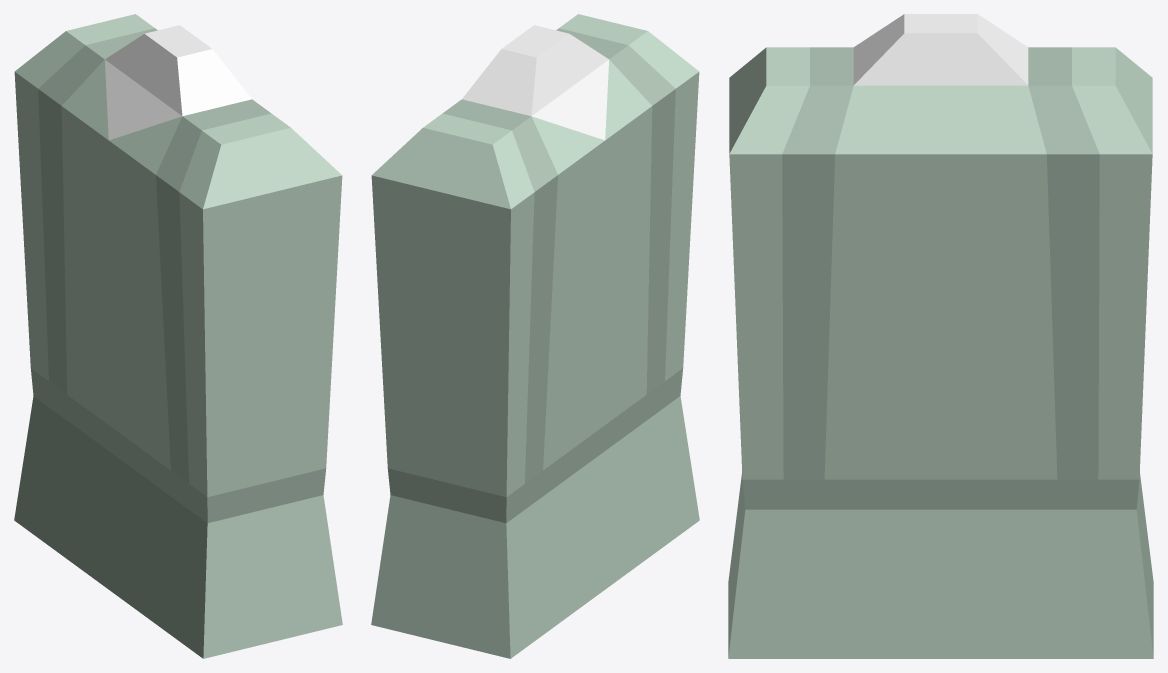
Rendered from SurvivorTorso.fbx.
3 renders of one model, left to right at view 1: azimuth 30°, elevation 25°; view 2: azimuth 150°, elevation 25°; view 3: azimuth 270°, elevation 25°, orthographic. The views are drawn at different scales.
Visible parts, largest first — view 1: SurvivorTorso; view 2: SurvivorTorso; view 3: SurvivorTorso.
Boxes of the visible parts, box(x1,y1,x2,y2) form: SurvivorTorso: box(14, 14, 342, 658); SurvivorTorso: box(371, 14, 699, 658); SurvivorTorso: box(728, 14, 1153, 658).
Bounding box in the file's own units: 0.2075 × 0.7557 × 0.488.
